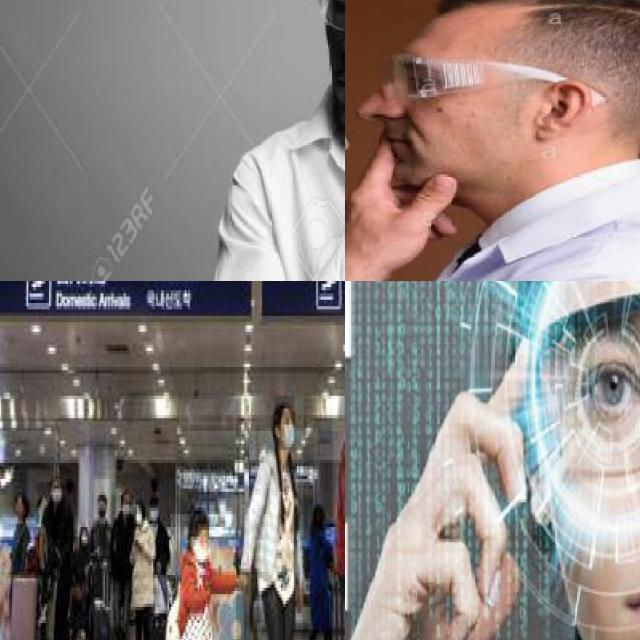No_Ear-Protection: (527, 71, 590, 151)
face_mask: (280, 412, 296, 450), (192, 530, 208, 562), (50, 482, 61, 505), (121, 495, 131, 517), (97, 498, 105, 518), (148, 504, 158, 520), (134, 504, 142, 524), (81, 530, 87, 543)
face_nomask: (553, 341, 640, 640), (345, 37, 461, 186), (322, 0, 345, 113), (14, 495, 22, 517)
glasses: (531, 283, 640, 480), (379, 49, 606, 109)
hand_noglove: (345, 332, 546, 640), (349, 134, 468, 264)
head_nohelmet: (188, 504, 211, 536), (274, 396, 294, 418)
person: (345, 0, 640, 281), (212, 0, 345, 281), (249, 395, 305, 640), (170, 514, 237, 640), (38, 482, 78, 640), (133, 488, 156, 640), (111, 495, 135, 640), (93, 479, 111, 640)
